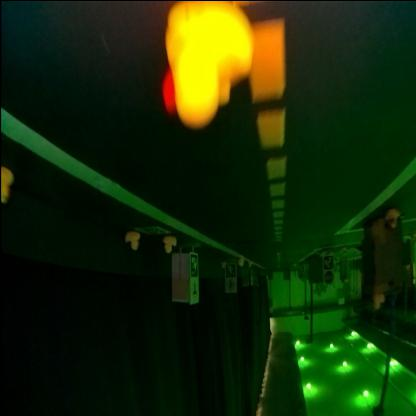Duckie: (163, 4, 252, 124), (1, 167, 12, 201), (126, 232, 140, 250), (386, 210, 400, 228), (163, 235, 176, 254), (373, 296, 385, 308)
Intersection sign: (190, 280, 198, 302), (226, 279, 236, 292)
QR code: (136, 226, 170, 233), (190, 253, 198, 277), (225, 263, 236, 277), (324, 256, 332, 270)
Stop sign: (324, 270, 334, 284)
